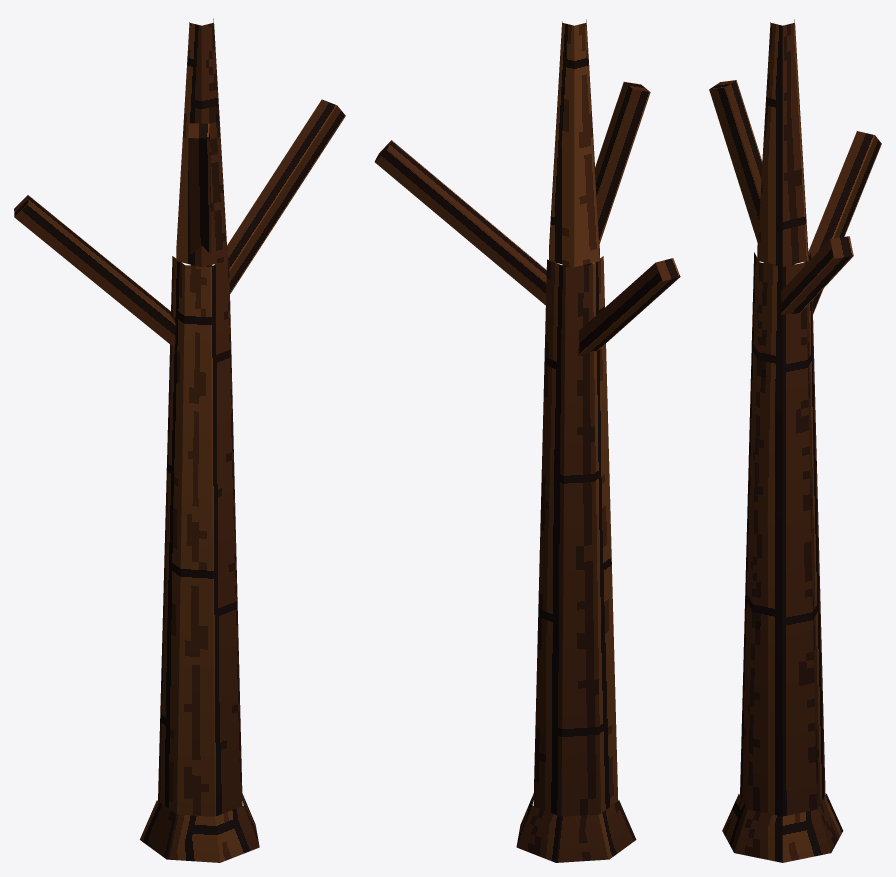
Rendered from oak_1_trunk.glb.
3 views of the same model, side by side, from view 1: azimuth 30°, elevation 25°; view 2: azimuth 150°, elevation 25°; view 3: azimuth 270°, elevation 25° (orthographic).
Visible parts, largest first — view 1: oak_1_trunk; view 2: oak_1_trunk; view 3: oak_1_trunk.
Boxes of the visible parts, x1,y1,x2,y2 form: oak_1_trunk: (14,18,345,862); oak_1_trunk: (374,19,680,862); oak_1_trunk: (709,19,881,862).
Bounding box in the file's own units: 2.11 × 5.22 × 1.
1 material, 1 textured.
